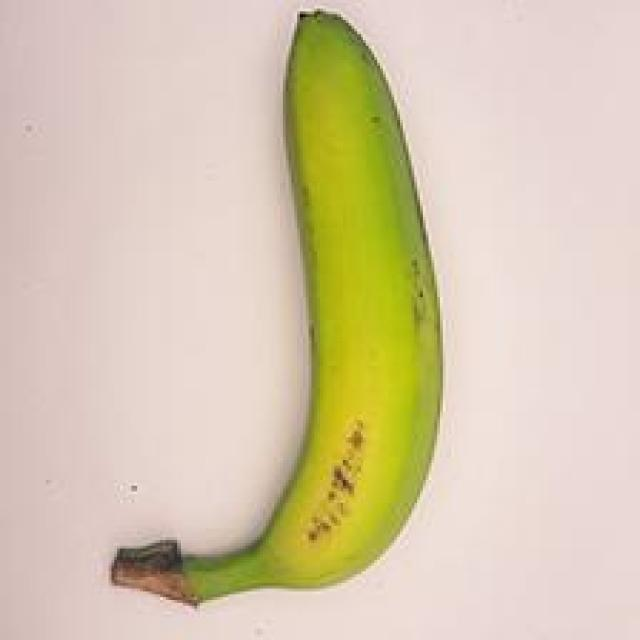Unripe: (86, 0, 462, 640)
